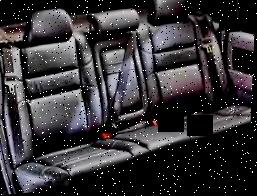seatbelt: (189, 11, 231, 115), (0, 43, 36, 164), (107, 25, 143, 141)
